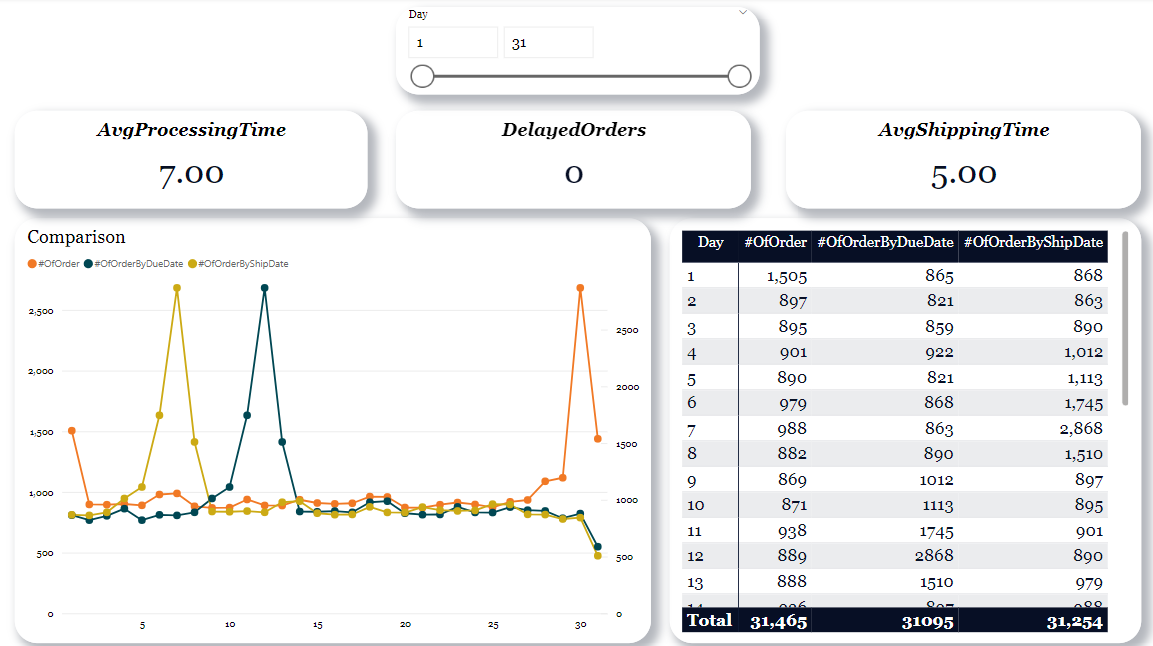

What the dashboard file says about the page in this screenshot:
{"tool":"powerbi","page":{"name":"Dates Comparison","canvas":[1280,720],"ordinal":1},"visuals":[{"type":"lineChart","title":"Comparison","fields":{"Y":["DaxMeasures.#OfOrder"],"Y2":["DaxMeasures.#OfOrderByDueDate","DaxMeasures.#OfOrderByShipDate"],"Category":["DimDate.Day"]},"box":[20.6,242.9,698.5,466.6],"z":0},{"type":"pivotTable","fields":{"Values":["DaxMeasures.#OfOrder","DaxMeasures.#OfOrderByDueDate","DaxMeasures.#OfOrderByShipDate"],"Rows":["DimDate.Day"]},"box":[739.6,242.9,517.3,466.6],"z":1000},{"type":"card","title":"AvgProcessingTime","fields":{"Values":["DaxMeasures.AvgOrderProcessingTime"]},"box":[20.6,124.9,387,107],"z":2000},{"type":"card","title":"AvgShippingTime","fields":{"Values":["DaxMeasures.AvgOrderShippingTime"]},"box":[867.2,124.9,389.7,107],"z":3000},{"type":"slicer","fields":{"Values":["DimDate.Day"]},"box":[439.1,11,399.3,96.1],"z":4000},{"type":"card","title":"DelayedOrders ","fields":{"Values":["DaxMeasures.DelayedOrdersCount"]},"box":[439.1,124.9,389.7,107],"z":5000}]}

Visuals, with their boxes in screenshot pixels (x1, y1, x2, y2), scaled from the page's 1280x720 canvas onto the 1153x646 screenshot:
"Comparison" lineChart: 19:218:648:637
pivotTable - DaxMeasures.#OfOrder x DaxMeasures.#OfOrderByDueDate: 666:218:1132:637
"AvgProcessingTime" card: 19:112:367:208
"AvgShippingTime" card: 781:112:1132:208
slicer - DimDate.Day: 396:10:755:96
"DelayedOrders " card: 396:112:747:208
